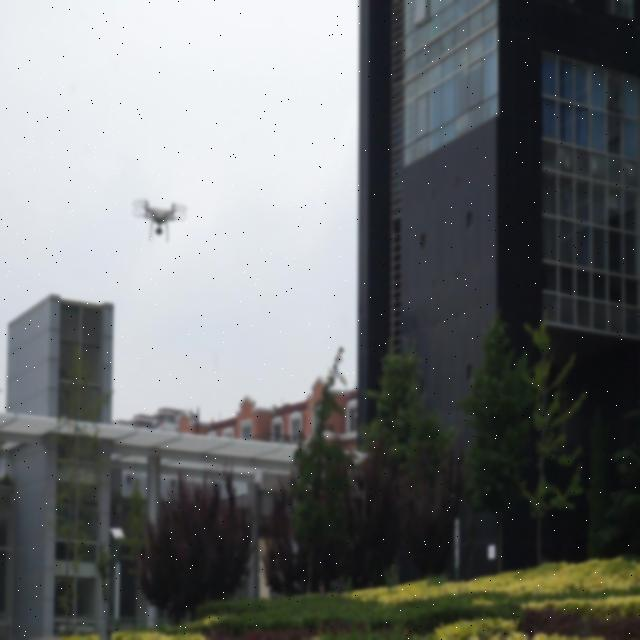UAV: (132, 200, 187, 242)
